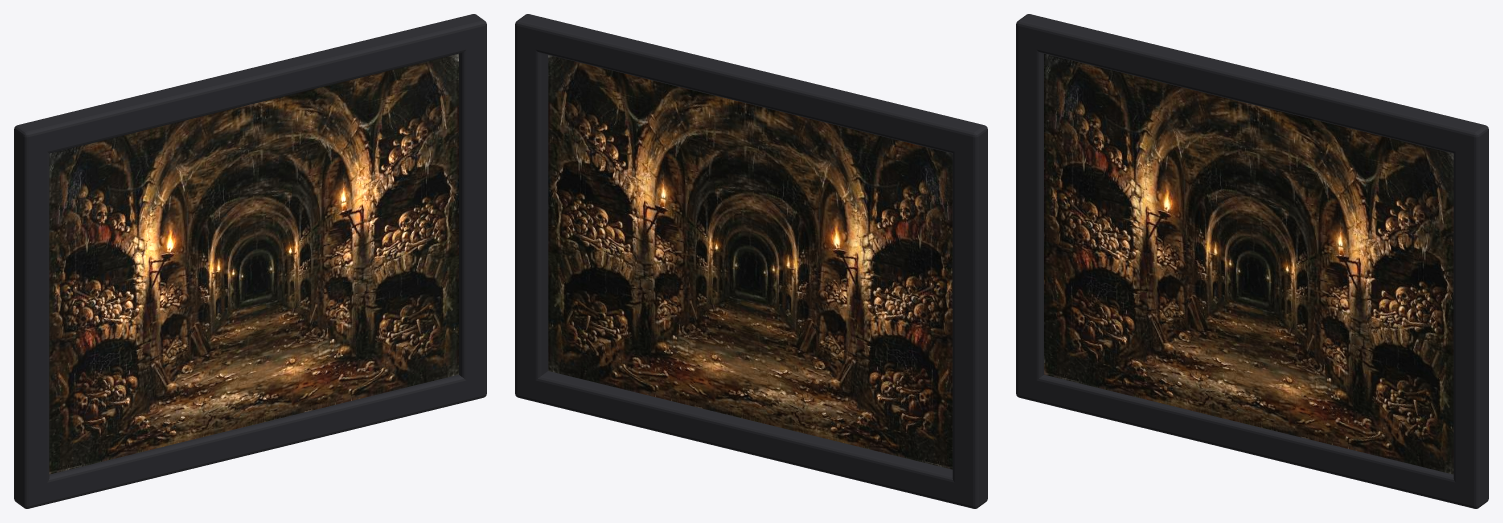
Rendered from art_catacomb_corridor.glb.
The picture shows the model from 3 angles, left to right: view 1: azimuth 30°, elevation 25°; view 2: azimuth 150°, elevation 25°; view 3: azimuth 330°, elevation 25°; orthographic projection.
Visible parts, largest first — view 1: GD_art_catacomb_corridor__m0, GD_art_catacomb_corridor__m1; view 2: GD_art_catacomb_corridor__m0, GD_art_catacomb_corridor__m1; view 3: GD_art_catacomb_corridor__m0, GD_art_catacomb_corridor__m1.
Part boxes in pixels (left/top/right/bottom): GD_art_catacomb_corridor__m0: left=49, top=53, right=458, bottom=474; GD_art_catacomb_corridor__m1: left=14, top=14, right=486, bottom=508; GD_art_catacomb_corridor__m0: left=548, top=55, right=952, bottom=469; GD_art_catacomb_corridor__m1: left=515, top=14, right=987, bottom=508; GD_art_catacomb_corridor__m0: left=1044, top=53, right=1453, bottom=474; GD_art_catacomb_corridor__m1: left=1016, top=14, right=1488, bottom=508.
Size of the model in its own units: 1.26 by 0.98 by 0.06.
Materials: 2 (1 with a texture image).
